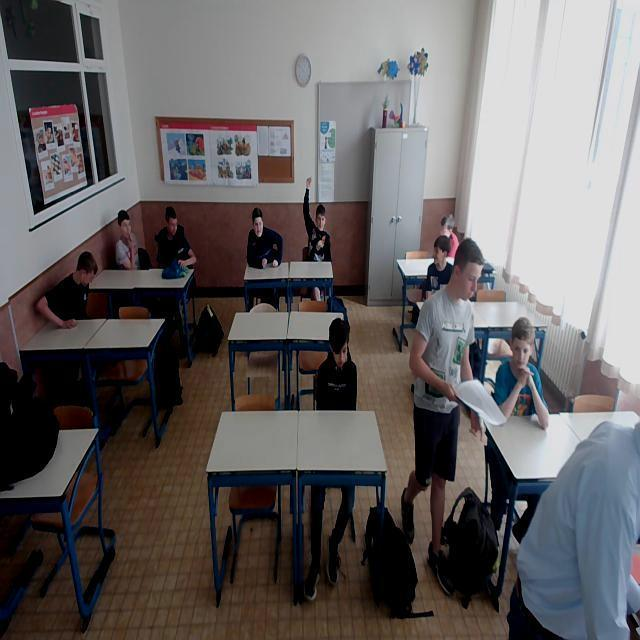Looking forward: (508, 322, 532, 368)
Raising hand: (302, 176, 334, 261)
Turning around: (38, 249, 100, 329)
